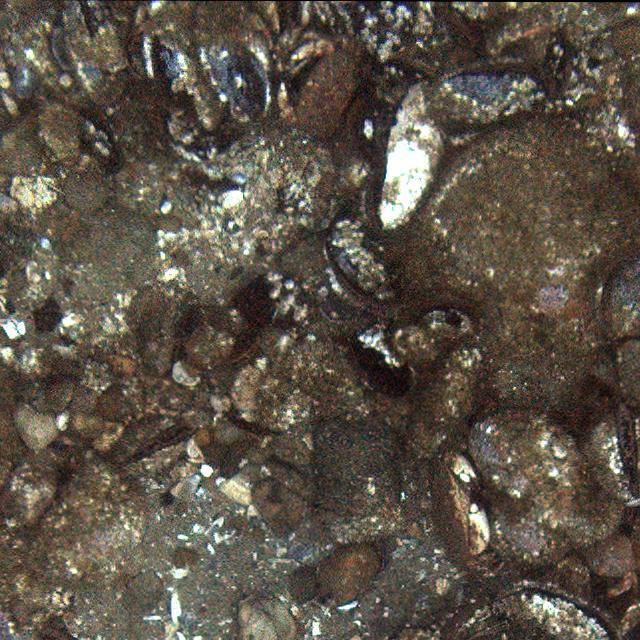crab: (578, 518, 640, 601)
